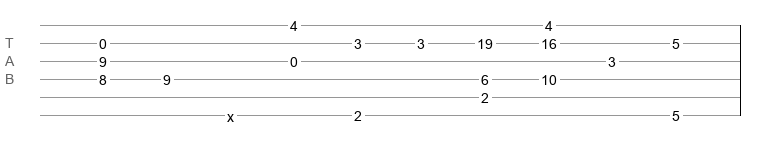0: (99, 36, 107, 46), (290, 54, 298, 64)
10: (541, 72, 557, 82)
16: (541, 36, 557, 46)
19: (477, 36, 493, 46)
2: (354, 108, 362, 118), (481, 90, 489, 100)
3: (354, 36, 362, 46), (417, 36, 425, 46), (608, 54, 616, 64)
4: (290, 18, 298, 28), (545, 18, 553, 28)
5: (672, 108, 680, 118), (672, 36, 680, 46)
6: (481, 72, 489, 82)
8: (99, 72, 107, 82)
9: (99, 54, 107, 64), (163, 72, 171, 82)
x: (227, 109, 234, 117)
